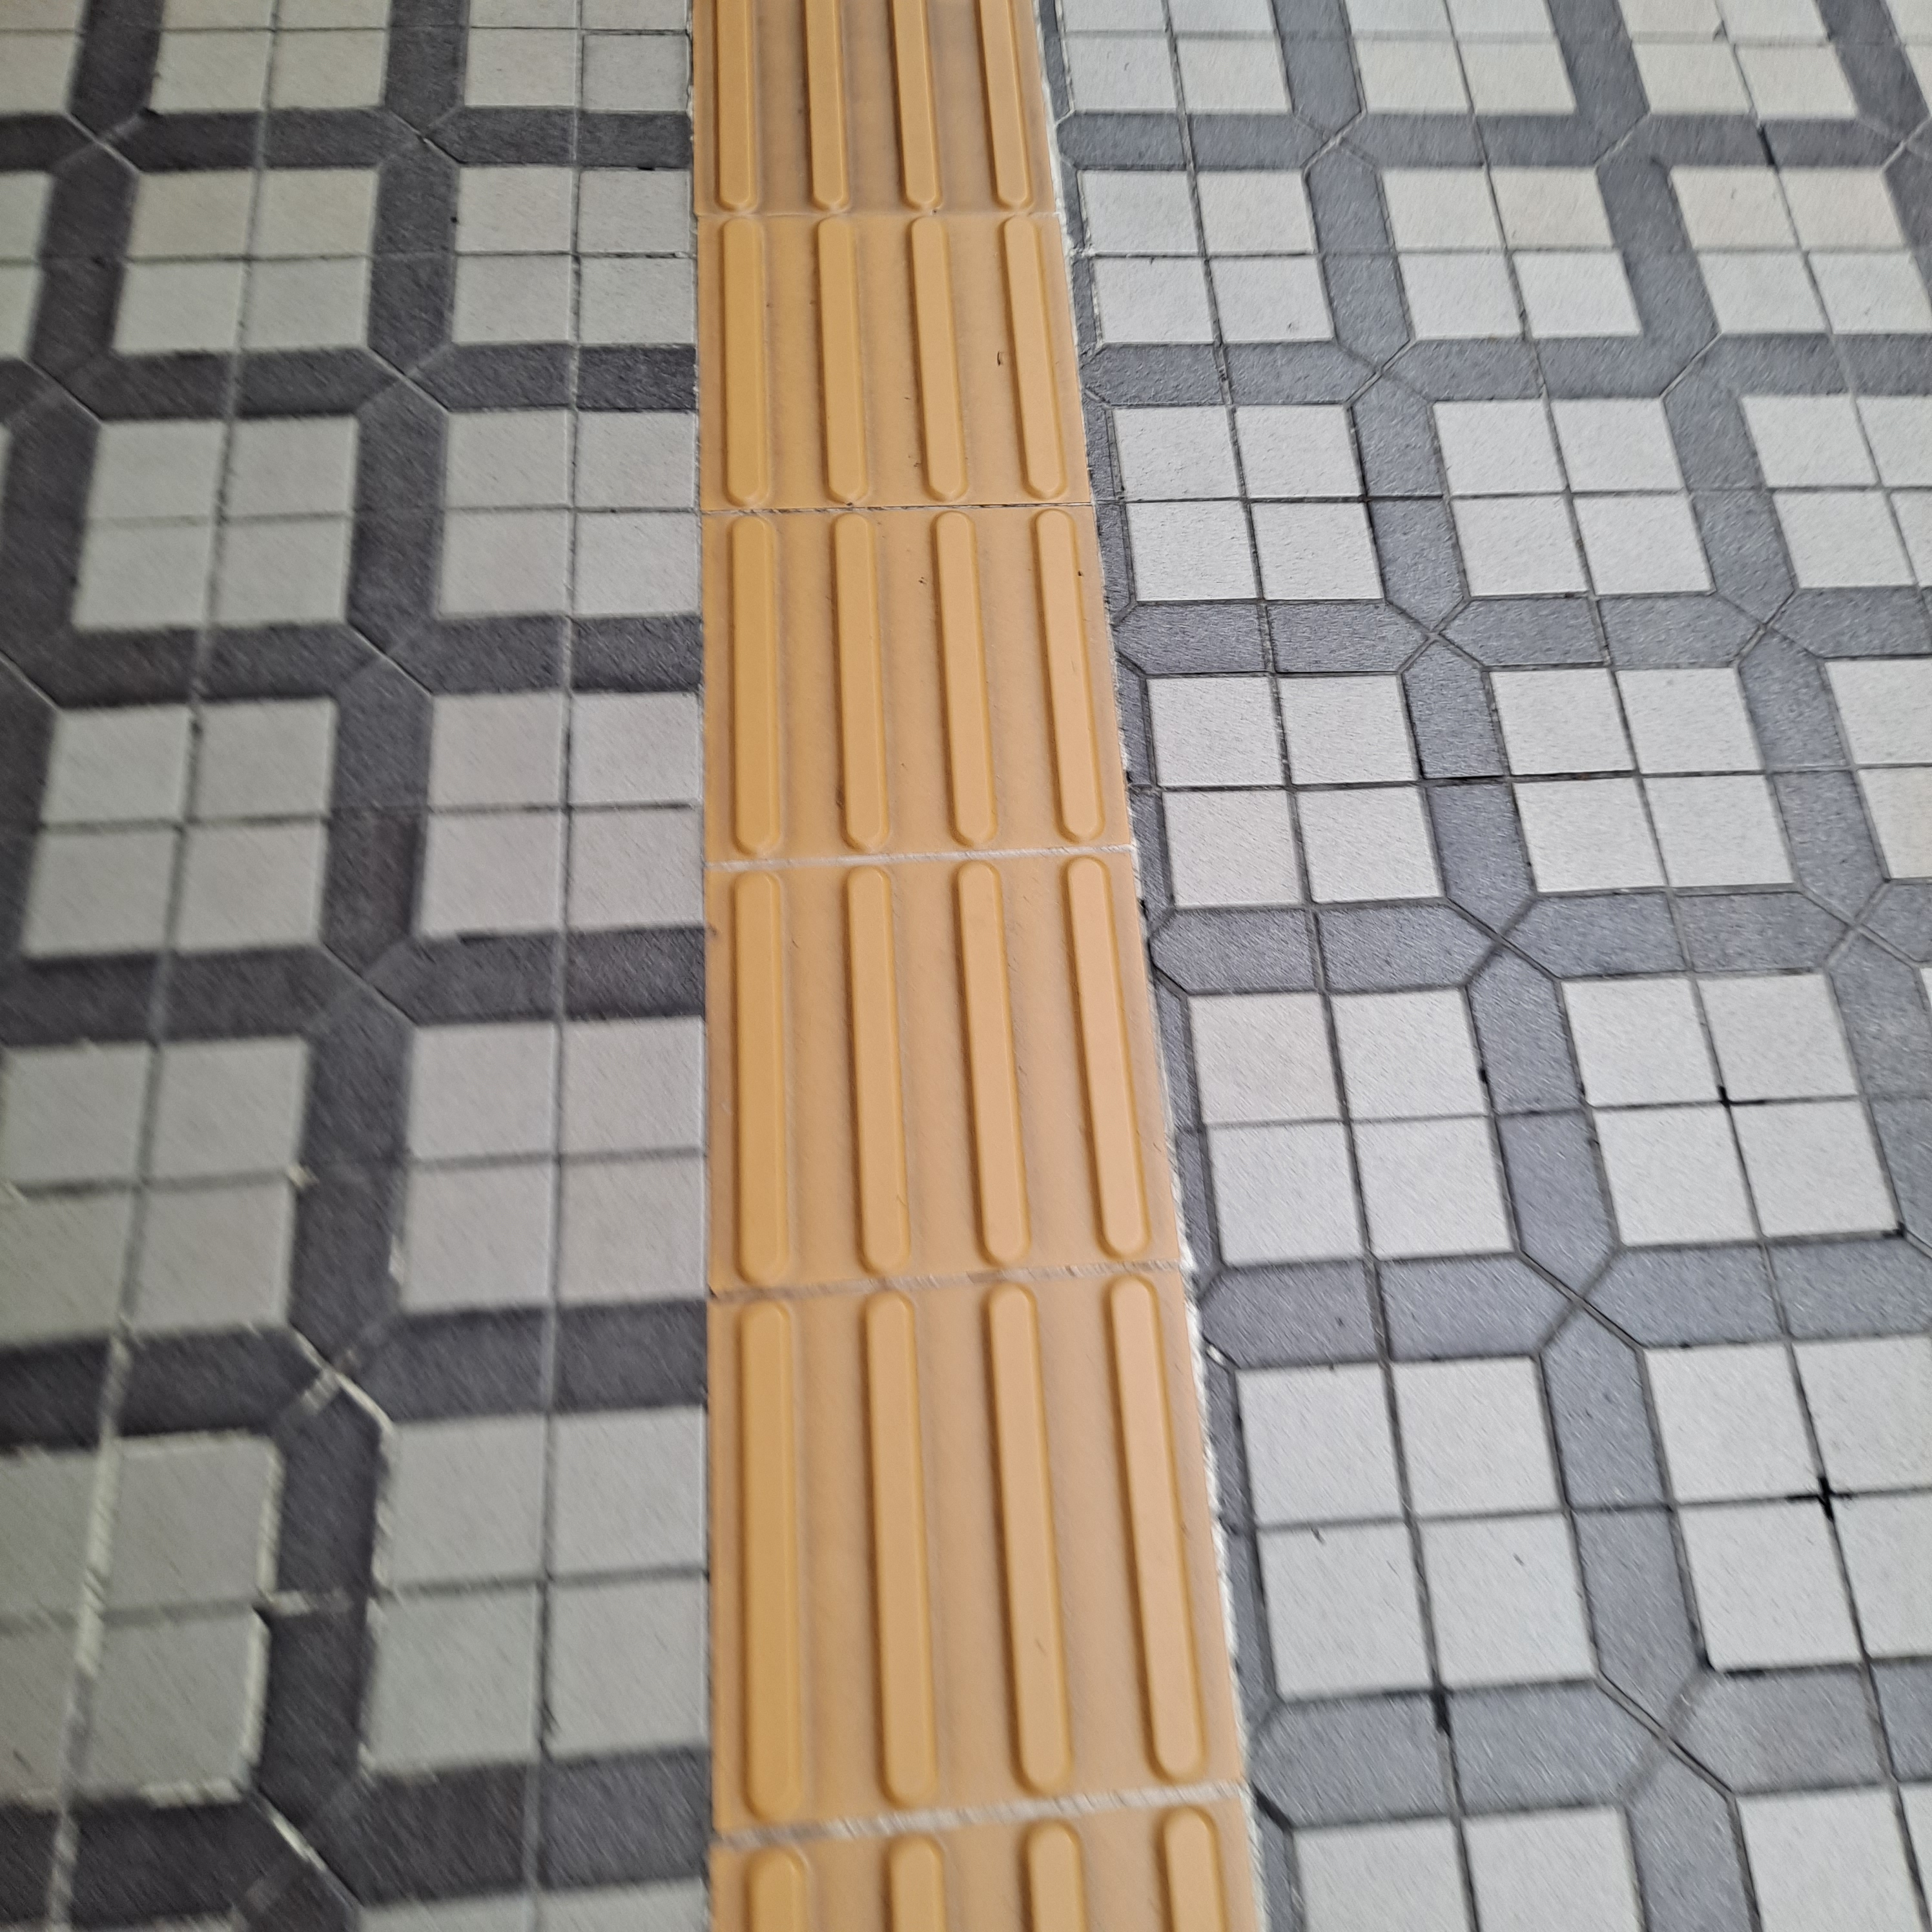guideBlock: (713, 1214, 1233, 1790), (694, 844, 1175, 1231), (715, 515, 1205, 879), (727, 237, 1134, 513), (690, 9, 1065, 216)
